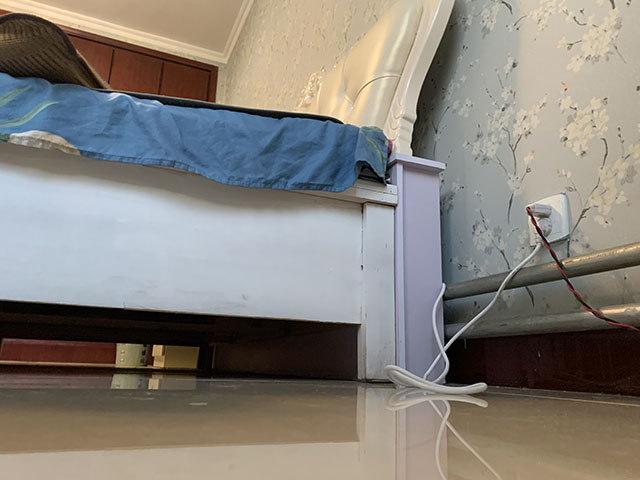bed: (1, 1, 457, 386)
wire: (381, 203, 640, 397)
